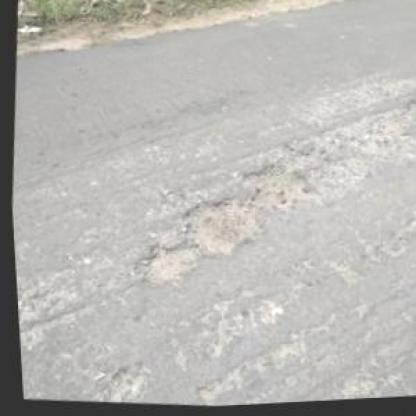pothole: (173, 193, 265, 265), (236, 160, 312, 219), (128, 242, 194, 296)
